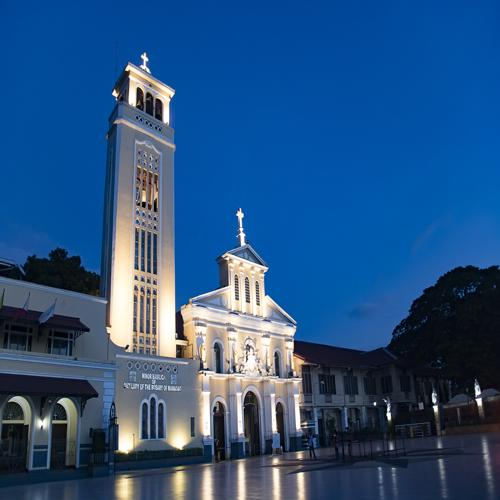Manaoag Church: (94, 37, 301, 465)
